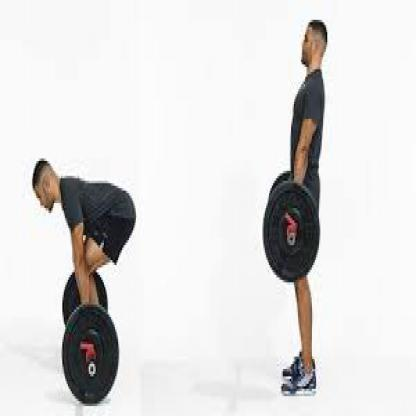barbell: (61, 267, 120, 408), (262, 170, 322, 282)
